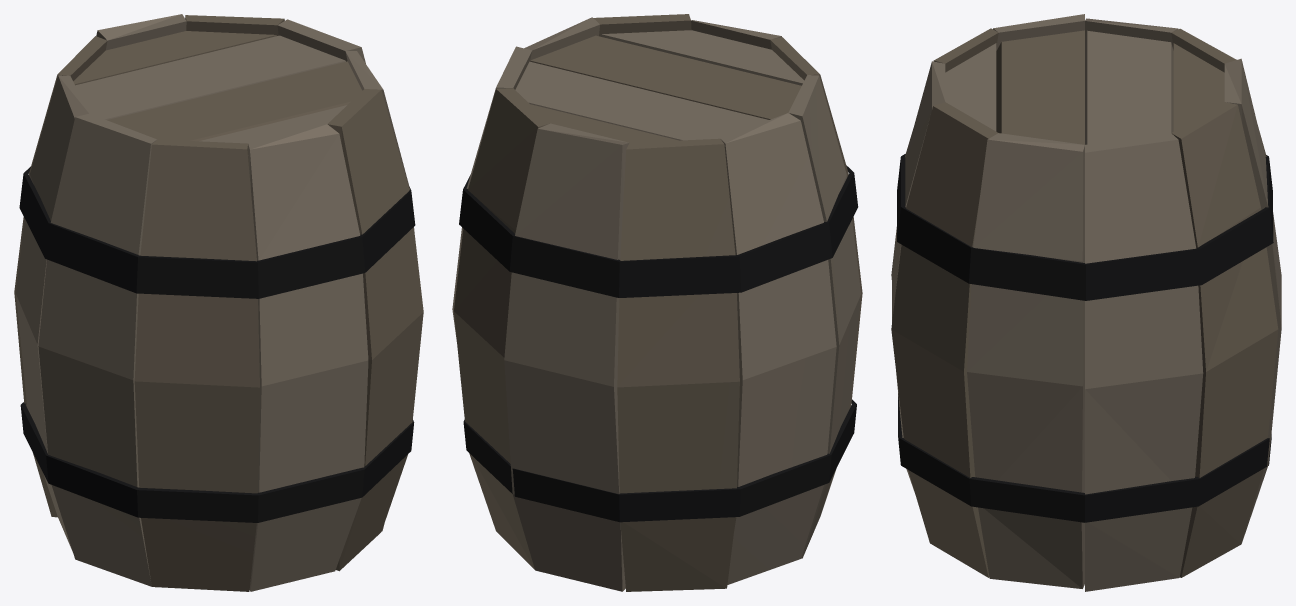
File: barrel.glb
3 views of the same model, side by side, from view 1: azimuth 30°, elevation 25°; view 2: azimuth 150°, elevation 25°; view 3: azimuth 270°, elevation 25° (orthographic).
Visible parts, largest first — view 1: Barrel; view 2: Barrel; view 3: Barrel.
Part boxes in pixels (bbox=[...]): Barrel: bbox=[14, 14, 423, 591]; Barrel: bbox=[452, 14, 862, 591]; Barrel: bbox=[891, 14, 1281, 591].
Bounding box in the file's own units: 0.7791 × 0.924 × 0.7369.
Materials: 1 (1 with a texture image).
